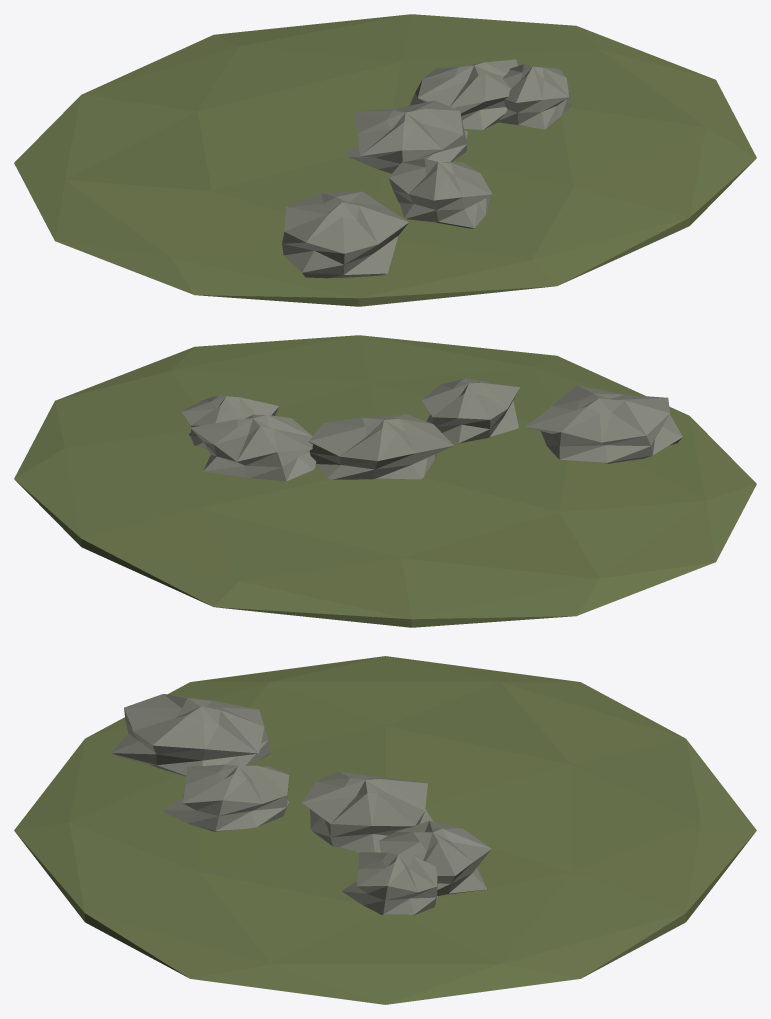
Rendered from stony_ground.glb.
3 views of the same model, one above another, from view 1: azimuth 30°, elevation 25°; view 2: azimuth 150°, elevation 25°; view 3: azimuth 270°, elevation 25° (orthographic). The views are drawn at different scales.
Visible parts, largest first — view 1: world-scenery/stony_ground; view 2: world-scenery/stony_ground; view 3: world-scenery/stony_ground.
Boxes of the visible parts, left/top/right/bottom form: world-scenery/stony_ground: left=14, top=14, right=756, bottom=306; world-scenery/stony_ground: left=14, top=335, right=756, bottom=627; world-scenery/stony_ground: left=14, top=656, right=756, bottom=1004.
Size of the model in its own units: 6 by 0.572 by 5.4.
